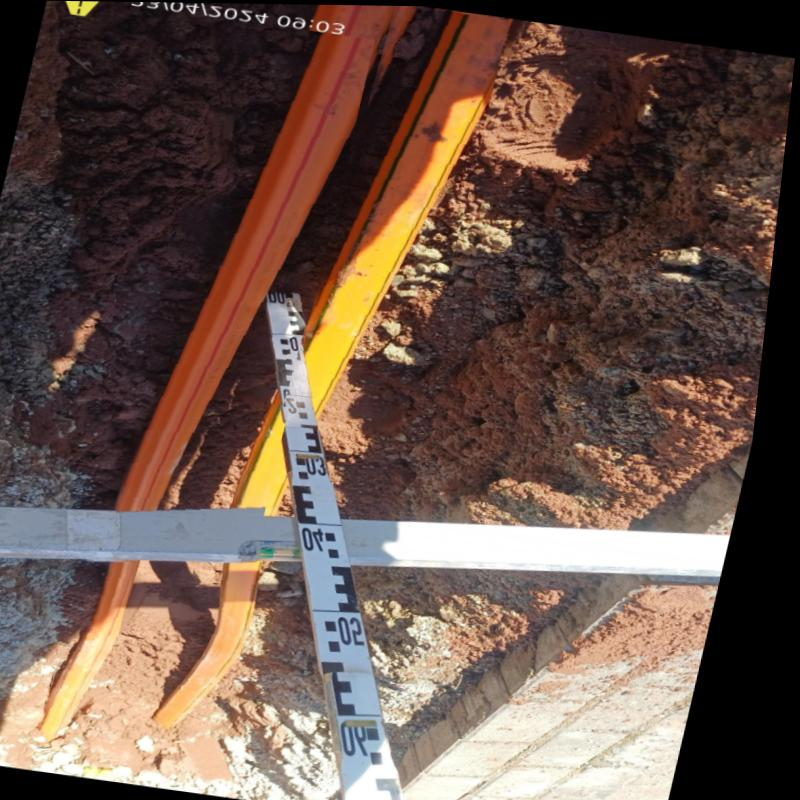Orang-Speednetrohrchen: (128, 30, 376, 511), (310, 9, 509, 410), (170, 560, 274, 725), (55, 561, 148, 735)
